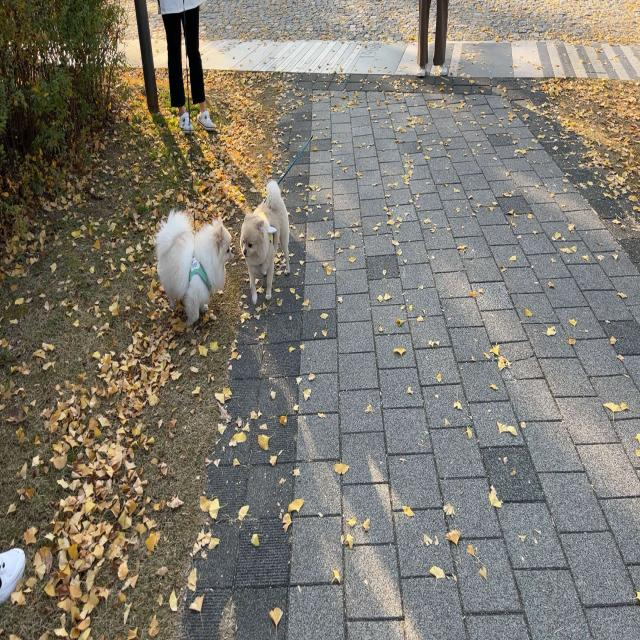Dog: (239, 178, 291, 304)
Leashed_Dog: (153, 0, 233, 329)
